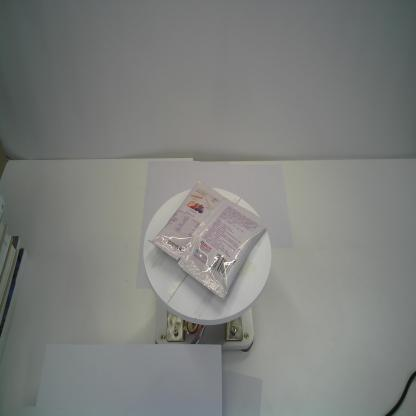Instant Drink: (148, 178, 268, 300)
